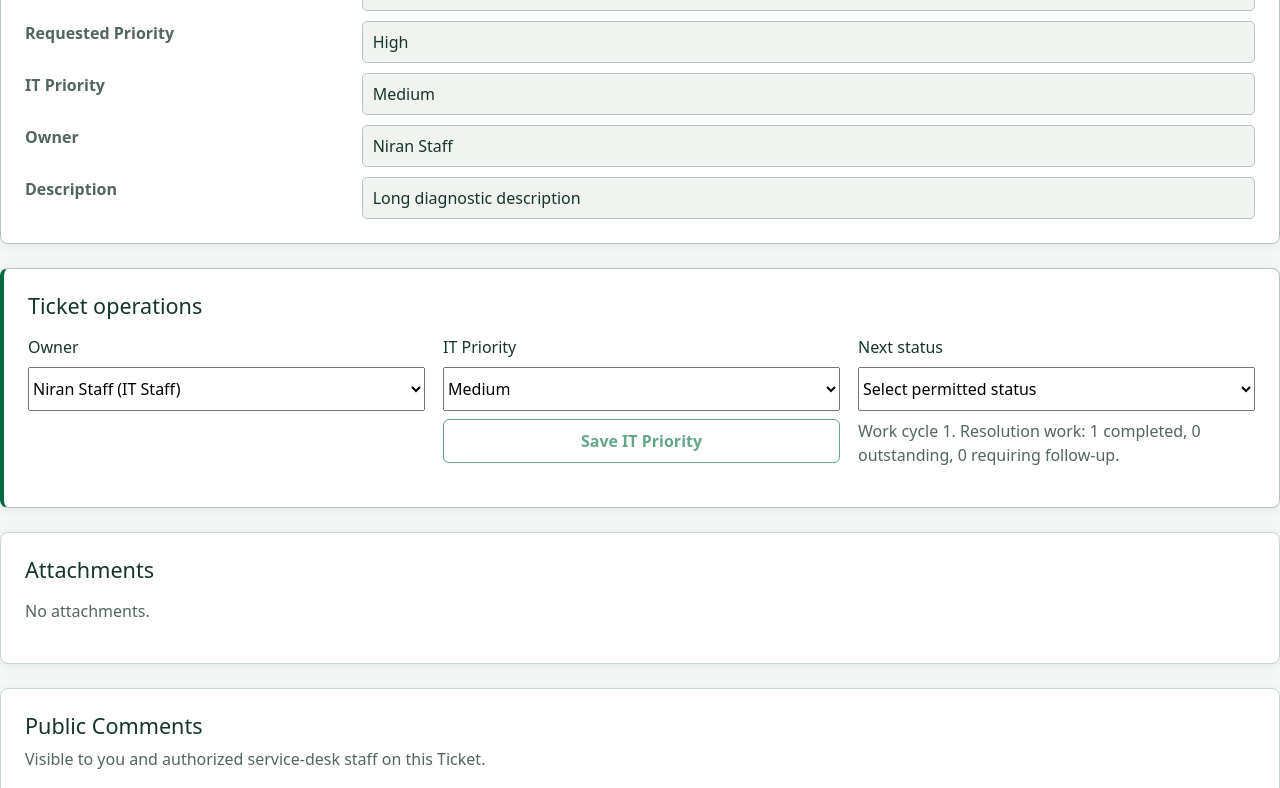
Test case: UI-04 Staff Ticket Detail operations › requires an explicit contextual confirmation before reassignment
(page scrolled)
Select "Ada Admin (Administrator)" in the dropdown labelled "Owner" at (226, 389), box [28,367,425,411]
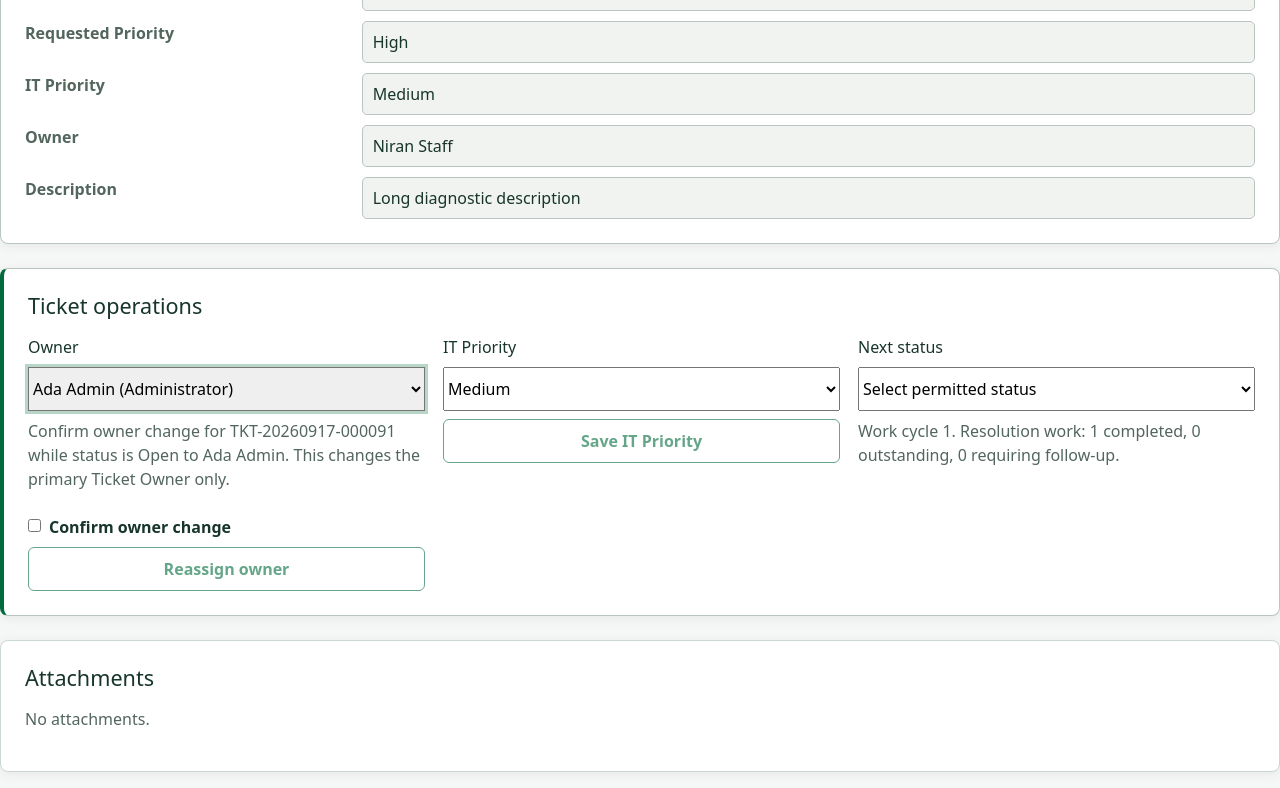
Now the button "Reassign owner" is disabled, box [28,547,425,591]
Click the checkbox labelled "Confirm owner change" at (34, 525), box [28,519,41,532]
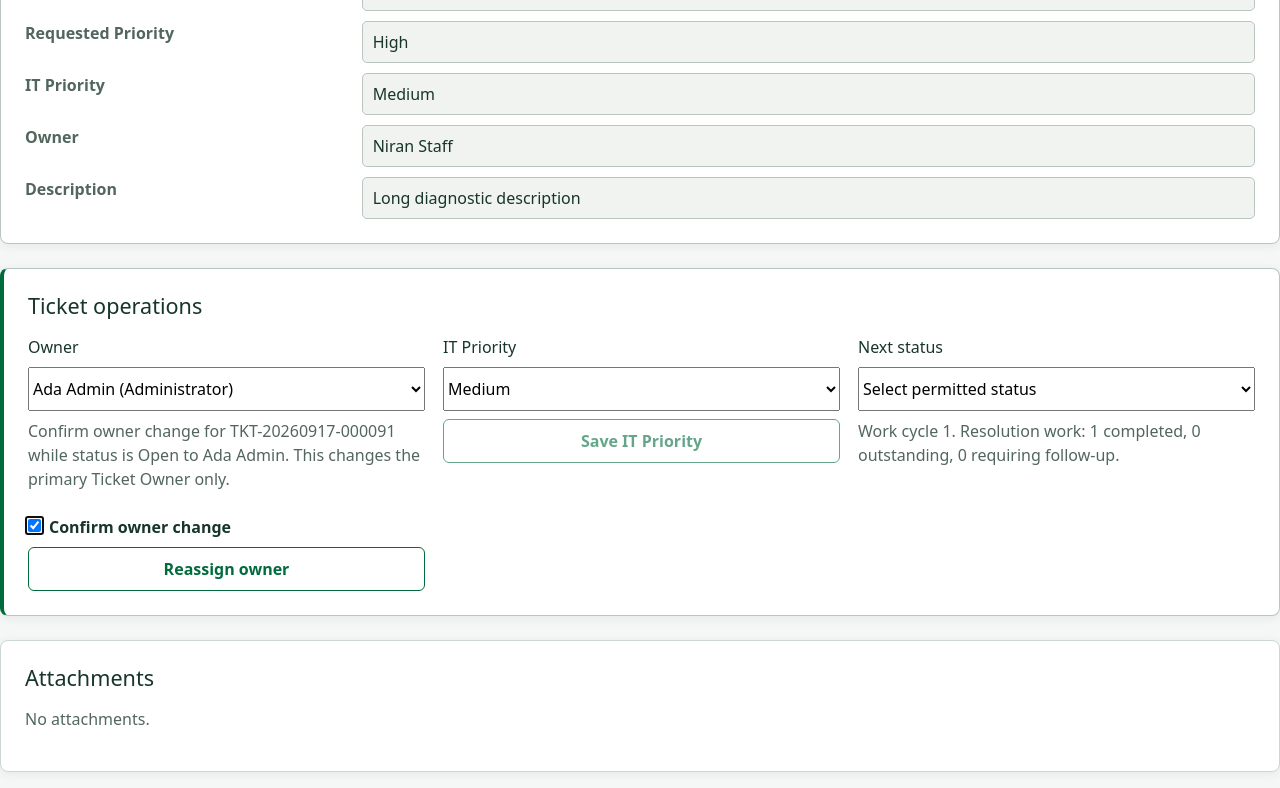
Click the button "Reassign owner" at (226, 569), box [28,547,425,591]
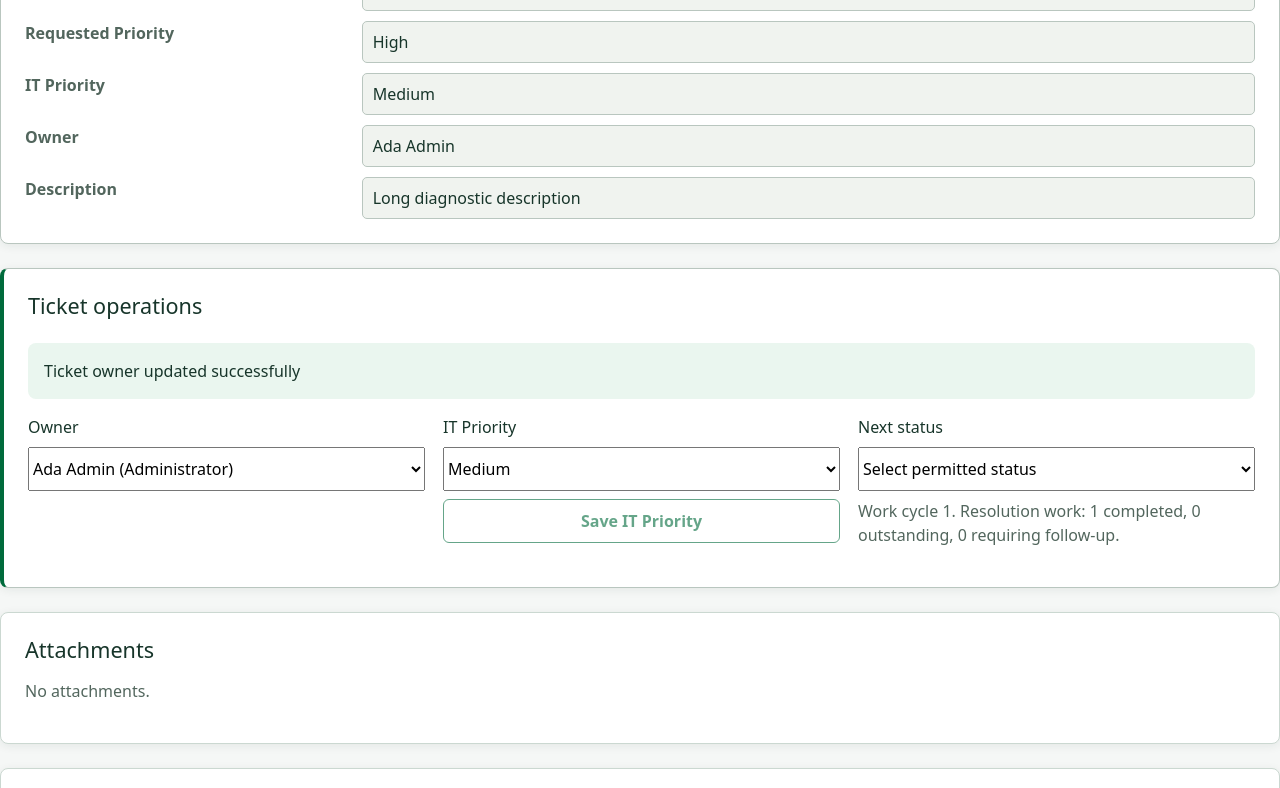
Now the text "Ada Admin" is shown, box [362,125,1255,167]
